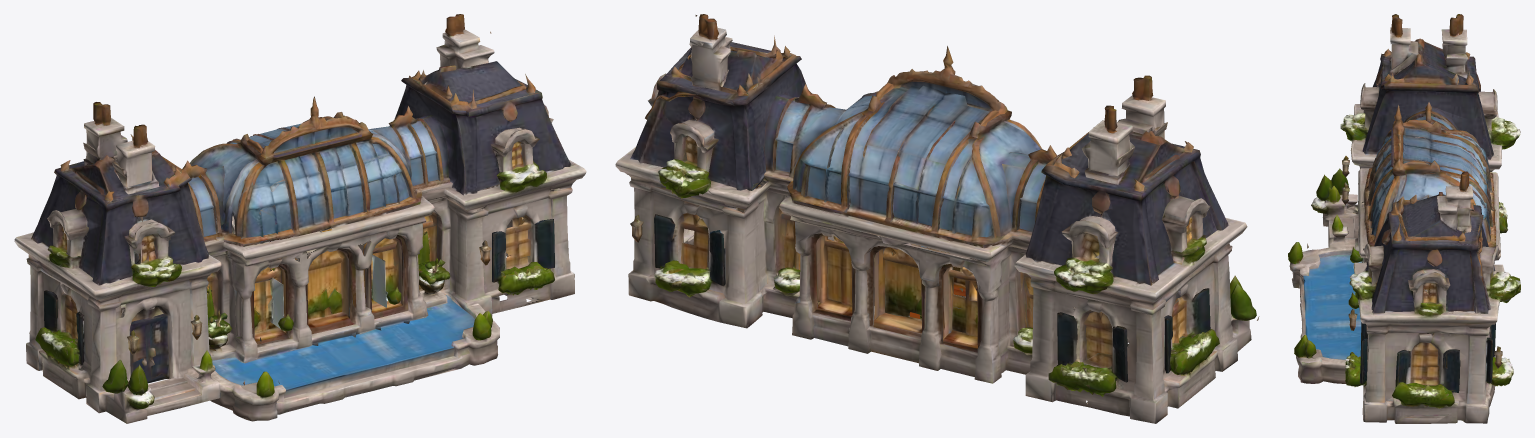
The picture shows the model from 3 angles, left to right: view 1: azimuth 30°, elevation 25°; view 2: azimuth 150°, elevation 25°; view 3: azimuth 270°, elevation 25°; orthographic projection. The views are drawn at different scales.
Visible parts, largest first — view 1: classic__onsen_2__native_mobile; view 2: classic__onsen_2__native_mobile; view 3: classic__onsen_2__native_mobile.
Boxes of the visible parts, x1,y1,x2,y2 form: classic__onsen_2__native_mobile: [14, 14, 586, 423]; classic__onsen_2__native_mobile: [615, 14, 1259, 423]; classic__onsen_2__native_mobile: [1288, 14, 1520, 423].
Bounding box in the file's own units: 1 × 0.5203 × 0.4597.
1 material, 1 textured.
